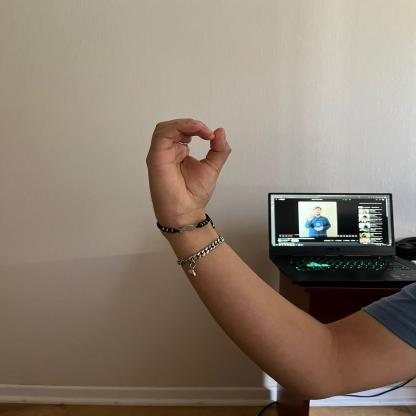O: (142, 113, 237, 219)
